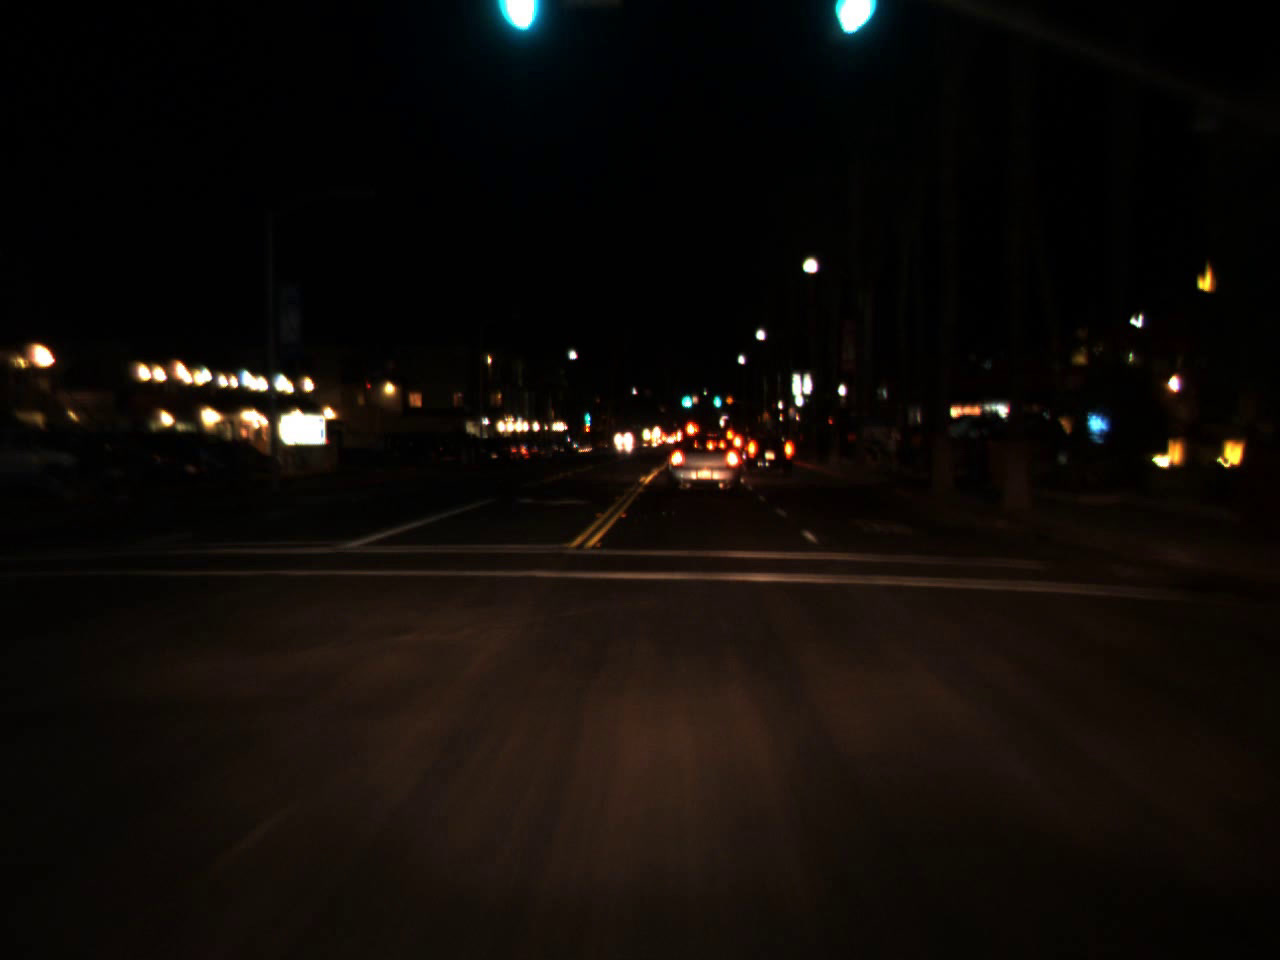go: (492, 0, 542, 41), (829, 0, 872, 42), (677, 386, 695, 407), (582, 399, 591, 429), (711, 387, 721, 408)
